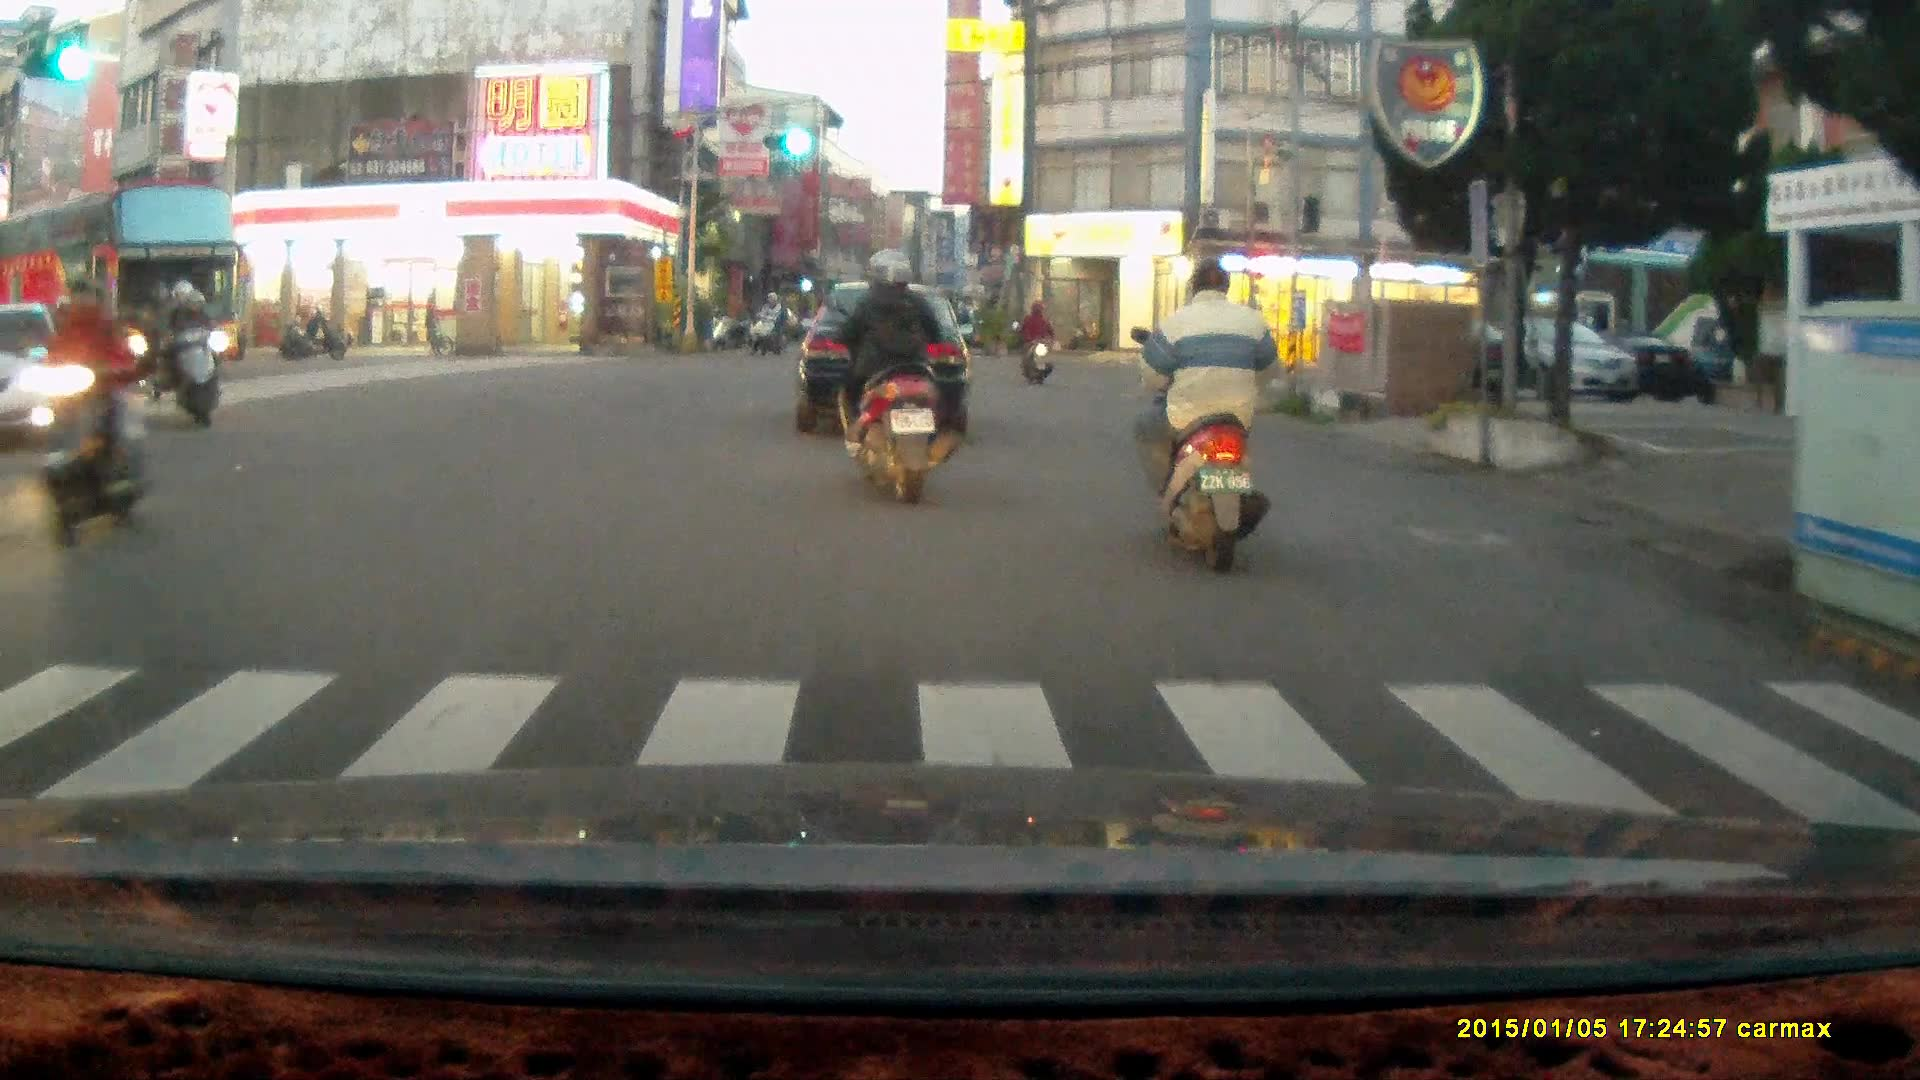rider: (1129, 249, 1277, 567), (823, 241, 963, 508), (22, 276, 157, 550), (155, 274, 221, 425), (1008, 297, 1055, 386), (749, 289, 782, 353)
vehicle: (1, 184, 241, 390), (1432, 314, 1643, 401), (1, 303, 70, 451)
